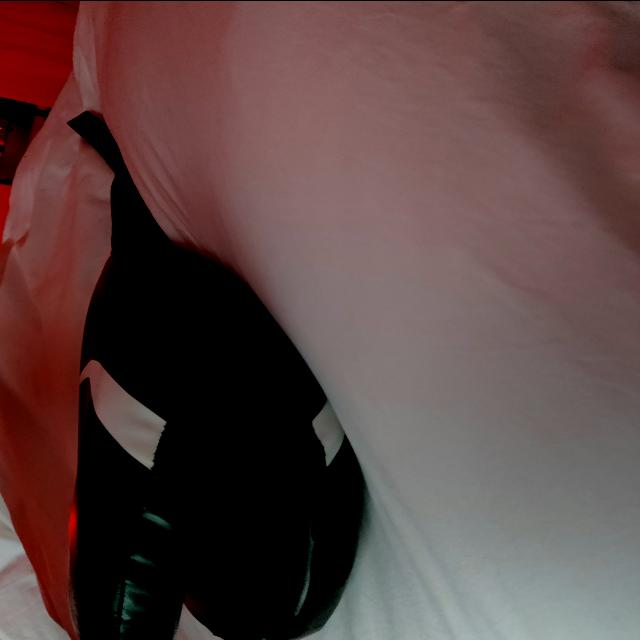paddle: (62, 171, 368, 640)
